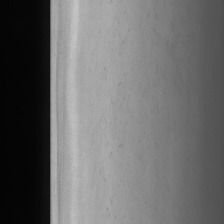silk_spot: (96, 14, 154, 199)
